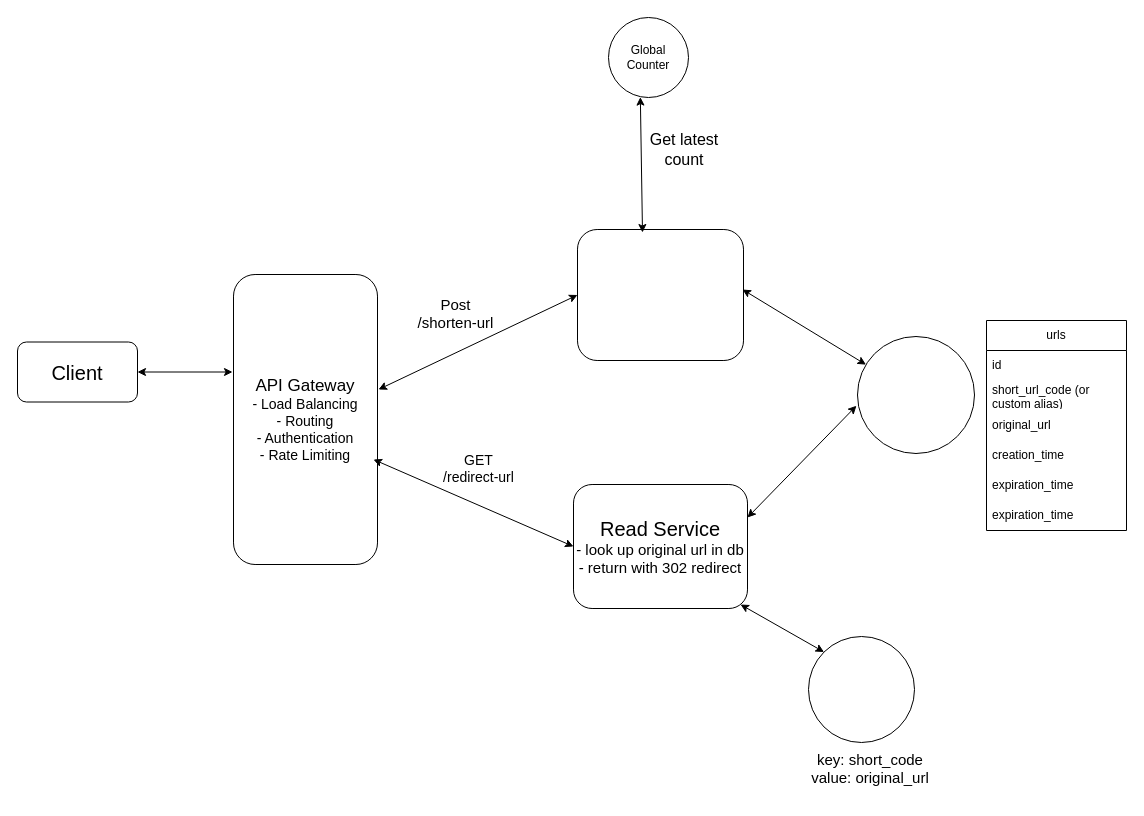
Some shapes in this 1144 by 816 pixel diagram are drawn without their labels. The shapes that lost their labels are listed below. From the top down, each one's box as (x1, y1, x2, y2) in pixels, then its label:
(576, 228, 744, 360): Write service - generate short url and save to db
(856, 336, 974, 454): Database
(808, 636, 914, 742): Cache (Redis)
